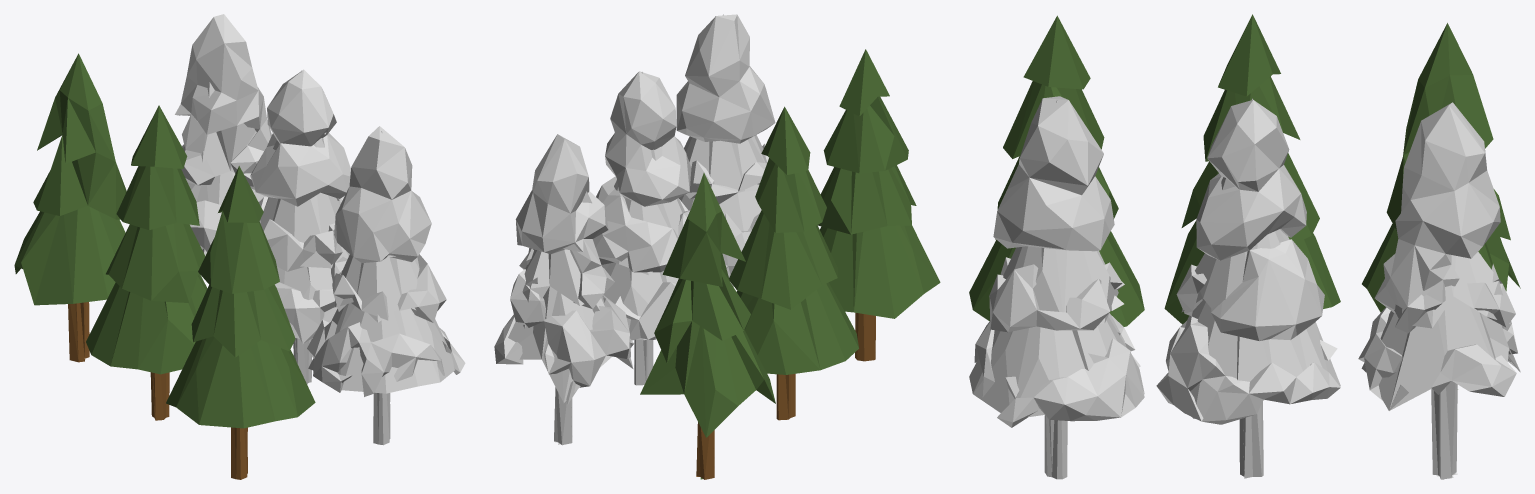
File: Snowy_Low_Poly_Trees.fbx
The picture shows the model from 3 angles, left to right: view 1: azimuth 30°, elevation 25°; view 2: azimuth 150°, elevation 25°; view 3: azimuth 270°, elevation 25°; orthographic projection. The views are drawn at different scales.
Parts seen in each view (by area): view 1: Pine_Snowy3, Pine_NoSnow3, Pine_NoSnow2, Pine_NoSnow1, Pine_Snowy2, Pine_Snowy1; view 2: Pine_Snowy1, Pine_NoSnow2, Pine_NoSnow3, Pine_Snowy2, Pine_NoSnow1, Pine_Snowy3; view 3: Pine_Snowy3, Pine_Snowy2, Pine_Snowy1, Pine_NoSnow2, Pine_NoSnow3, Pine_NoSnow1.
Boxes of the visible parts, left/top/right/bottom form: Pine_Snowy3: left=307, top=126, right=465, bottom=445; Pine_NoSnow3: left=166, top=166, right=315, bottom=479; Pine_NoSnow2: left=86, top=105, right=207, bottom=420; Pine_NoSnow1: left=14, top=53, right=126, bottom=362; Pine_Snowy2: left=250, top=69, right=350, bottom=384; Pine_Snowy1: left=175, top=14, right=271, bottom=255; Pine_Snowy1: left=494, top=134, right=633, bottom=445; Pine_NoSnow2: left=729, top=106, right=858, bottom=420; Pine_NoSnow3: left=818, top=49, right=940, bottom=361; Pine_Snowy2: left=592, top=71, right=691, bottom=385; Pine_NoSnow1: left=640, top=173, right=775, bottom=479; Pine_Snowy3: left=676, top=14, right=775, bottom=286; Pine_Snowy3: left=969, top=96, right=1144, bottom=479; Pine_Snowy2: left=1156, top=98, right=1340, bottom=478; Pine_Snowy1: left=1358, top=102, right=1520, bottom=479; Pine_NoSnow2: left=1164, top=14, right=1340, bottom=324; Pine_NoSnow3: left=969, top=15, right=1144, bottom=326; Pine_NoSnow1: left=1362, top=23, right=1520, bottom=312.
Bounding box in the file's own units: 311 × 339 × 451.
